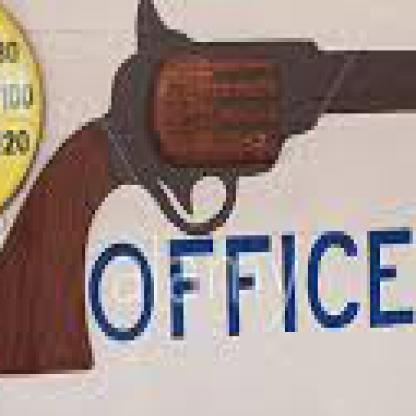gun: (0, 0, 413, 399)
